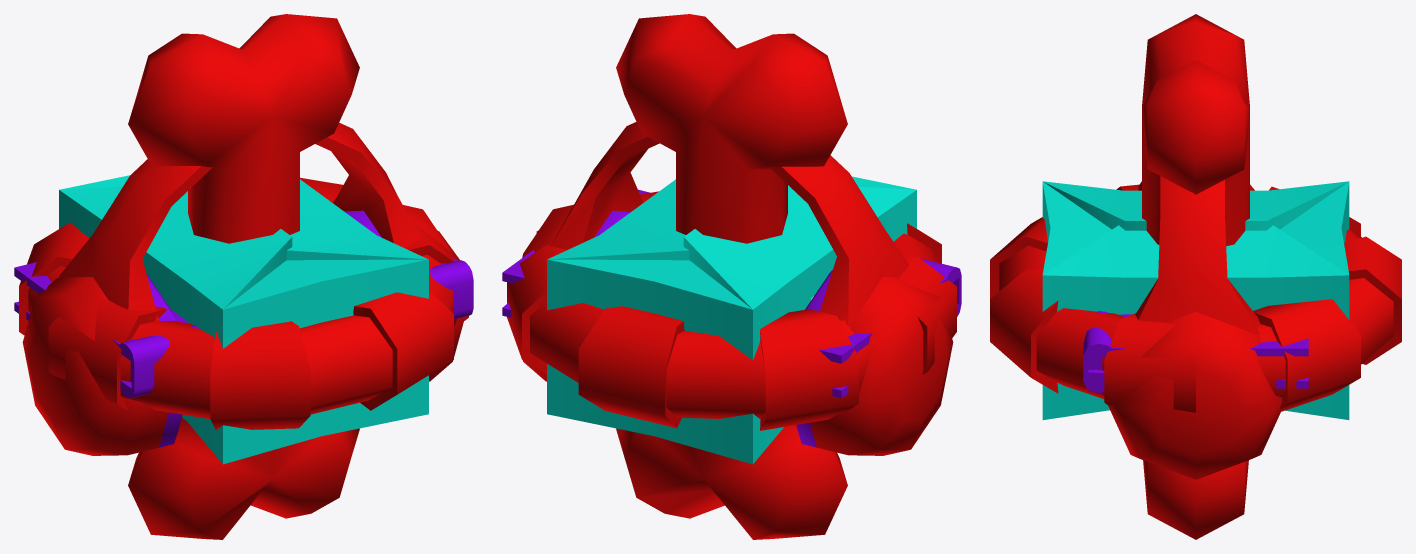
Rendered from Packs.fbx.
3 renders of one model, left to right at view 1: azimuth 30°, elevation 25°; view 2: azimuth 150°, elevation 25°; view 3: azimuth 270°, elevation 25°, orthographic. The views are drawn at different scales.
Parts seen in each view (by area): view 1: Pack_02, Pack_05, Pack_06, Pack_01, Pack_03; view 2: Pack_02, Pack_05, Pack_06, Pack_01, Pack_03; view 3: Pack_05, Pack_06, Pack_01, Pack_02, Pack_03.
Part boxes in pixels (x1=…): Pack_02: x1=128, y1=14, x2=359, y2=539; Pack_05: x1=19, y1=177, x2=468, y2=430; Pack_06: x1=59, y1=175, x2=428, y2=464; Pack_01: x1=22, y1=122, x2=463, y2=455; Pack_03: x1=14, y1=256, x2=473, y2=398; Pack_02: x1=616, y1=14, x2=847, y2=539; Pack_05: x1=507, y1=191, x2=956, y2=430; Pack_06: x1=547, y1=176, x2=916, y2=464; Pack_01: x1=522, y1=122, x2=953, y2=455; Pack_03: x1=502, y1=189, x2=961, y2=398; Pack_05: x1=990, y1=184, x2=1401, y2=412; Pack_06: x1=1042, y1=181, x2=1349, y2=419; Pack_01: x1=1104, y1=176, x2=1282, y2=479; Pack_02: x1=1142, y1=14, x2=1249, y2=539; Pack_03: x1=1083, y1=311, x2=1308, y2=392.
Size of the model in its own units: 0.5829 by 0.7193 by 0.5683.
